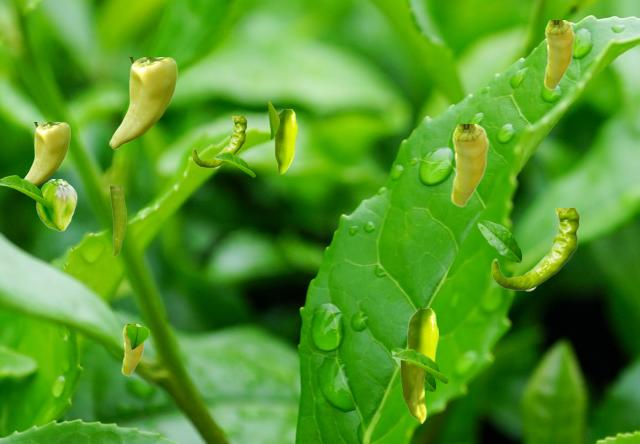green_chili: (491, 208, 579, 290), (109, 57, 176, 148), (450, 124, 488, 206), (24, 122, 69, 185), (192, 116, 246, 167), (543, 20, 574, 89), (36, 179, 76, 230), (407, 308, 437, 361), (400, 361, 425, 422), (274, 109, 296, 173), (121, 324, 144, 375), (109, 186, 125, 255)
